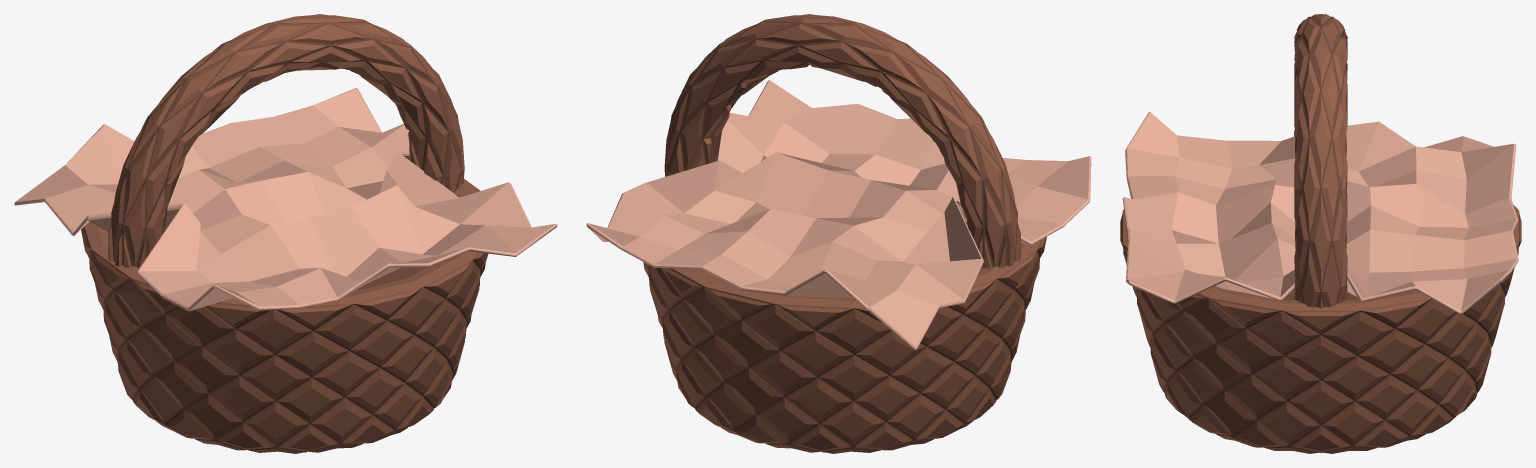
File: basket1.fbx
3 views of the same model, side by side, from view 1: azimuth 30°, elevation 25°; view 2: azimuth 150°, elevation 25°; view 3: azimuth 270°, elevation 25° (orthographic). The views are drawn at different scales.
Parts seen in each view (by area): view 1: Plane.002; view 2: Plane.002; view 3: Plane.002.
Boxes of the visible parts, x1,y1,x2,y2 form: Plane.002: (14, 14, 557, 453); Plane.002: (586, 14, 1091, 453); Plane.002: (1120, 14, 1521, 453).
Bounding box in the file's own units: 330 × 341 × 330.
